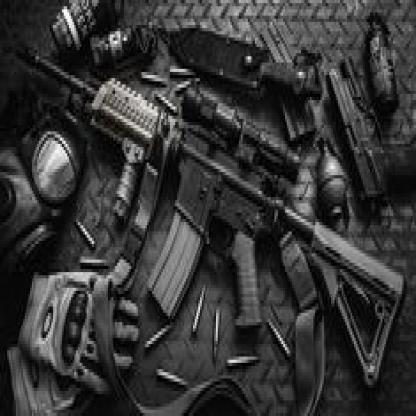Grenade: (365, 8, 401, 117), (315, 133, 350, 222), (90, 25, 156, 70)
Gun: (13, 40, 407, 393)
Pistol: (325, 50, 416, 216)
